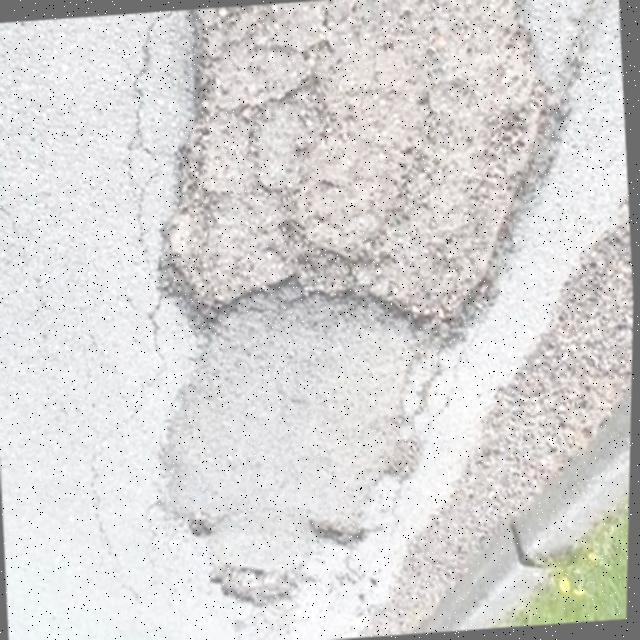pothole: (137, 0, 577, 364)
